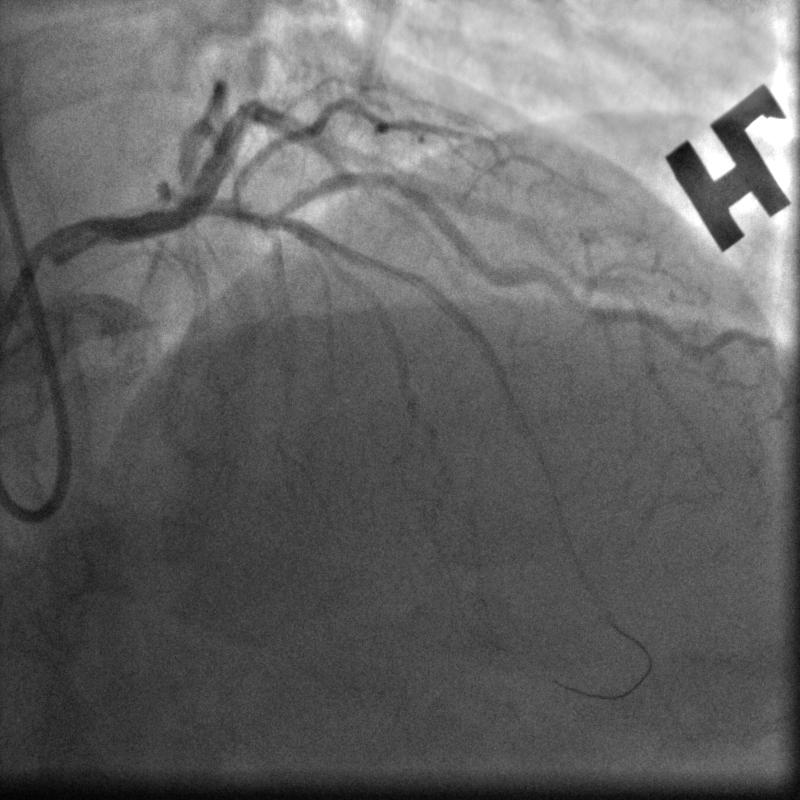Stenosis: (379, 166, 422, 200)
